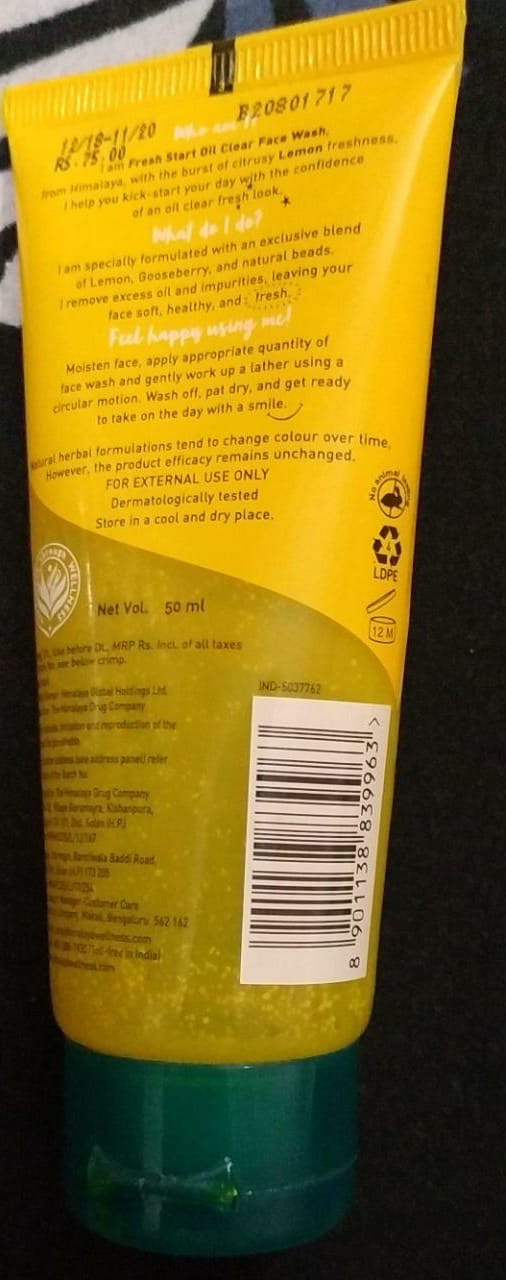barcode: (241, 703, 374, 988)
